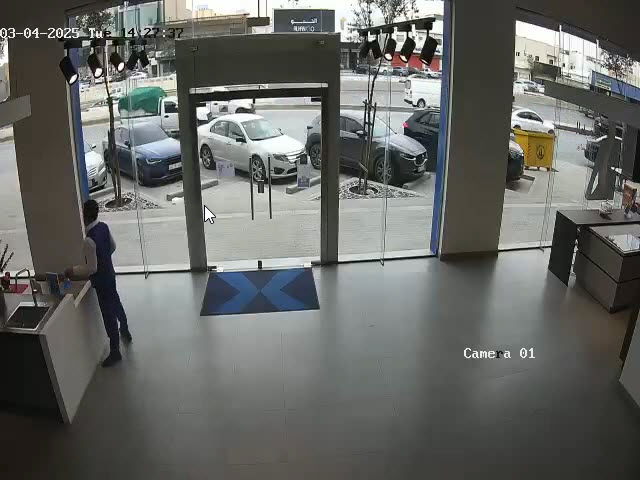employee: (82, 199, 133, 367)
